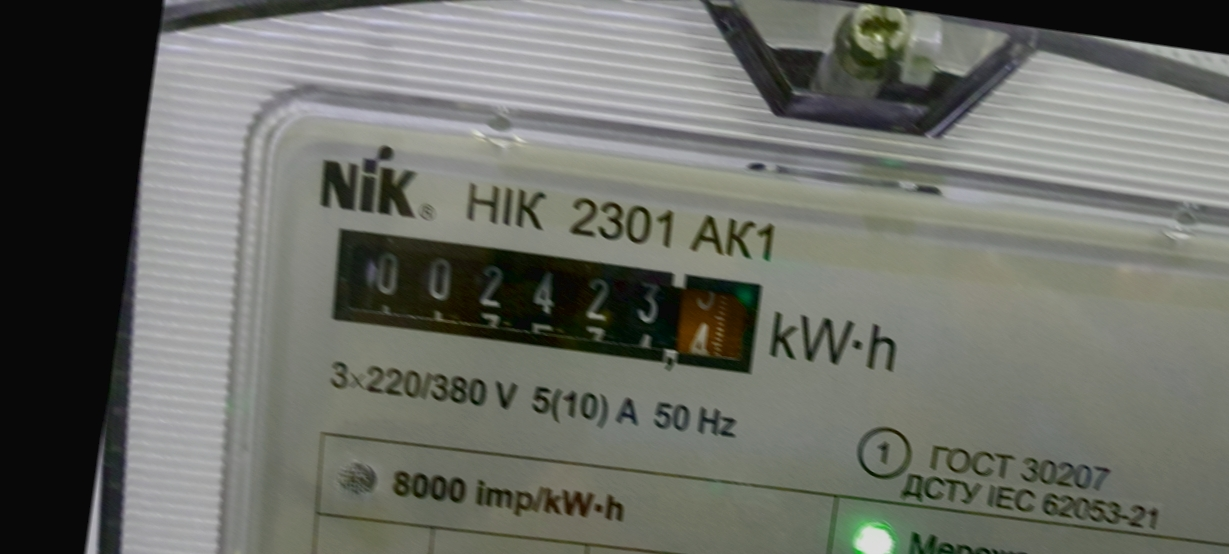0: (372, 246, 405, 297), (425, 253, 456, 301)
2: (476, 259, 508, 309), (583, 274, 612, 322)
3: (634, 277, 664, 325), (694, 285, 718, 311)
4: (530, 266, 559, 315), (686, 316, 716, 356)
screen: (316, 211, 778, 391)
